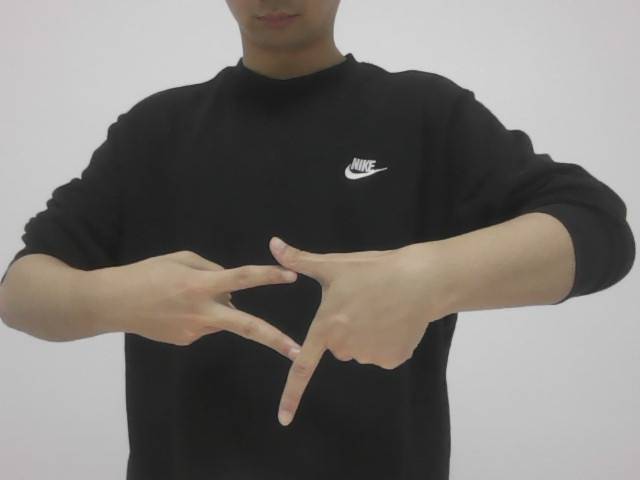introduce: (115, 222, 439, 435)
